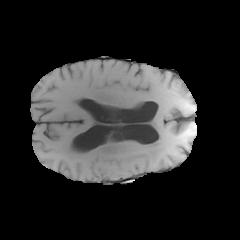glioma: (60, 94, 195, 165)
